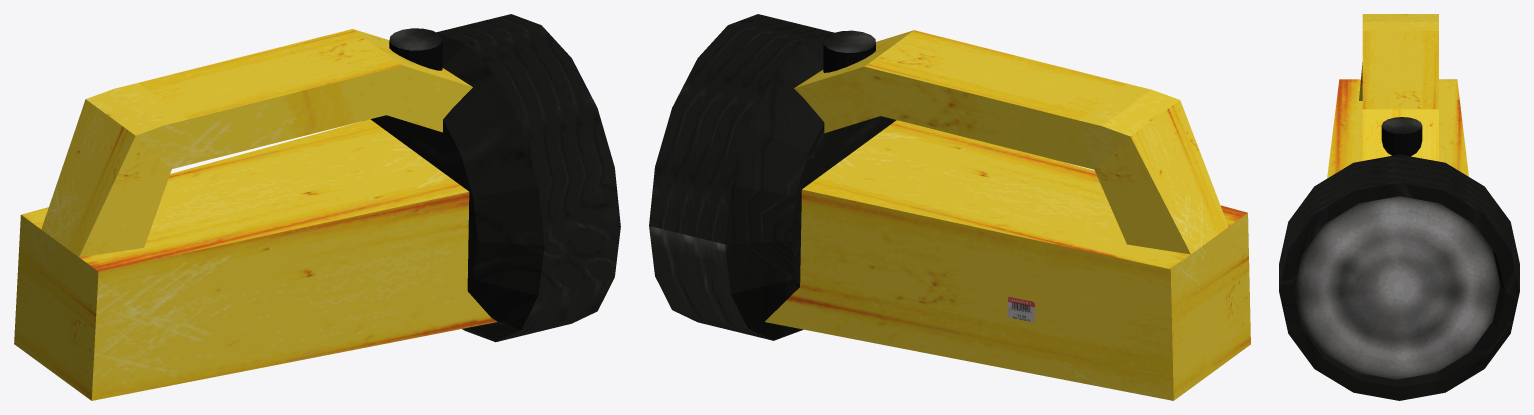
File: lamp.glb
3 renders of one model, left to right at view 1: azimuth 30°, elevation 25°; view 2: azimuth 150°, elevation 25°; view 3: azimuth 270°, elevation 25°, orthographic. The views are drawn at different scales.
Visible parts, largest first — view 1: Cube, Cilindro; view 2: Cube, Cilindro; view 3: Cilindro, Cube.
Part boxes in pixels (<box>): Cube: <box>14,28,497,400</box>; Cilindro: <box>370,14,620,342</box>; Cube: <box>765,30,1250,400</box>; Cilindro: <box>649,14,1034,340</box>; Cilindro: <box>1279,154,1519,400</box>; Cube: <box>1327,14,1468,178</box>.
Size of the model in its own units: 0.5757 by 0.3433 by 0.3239.
Materials: 1 (1 with a texture image).
